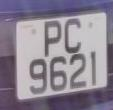1: (86, 48, 100, 92)
2: (68, 49, 89, 94)
6: (48, 54, 70, 97)
9: (26, 55, 51, 100)
C: (61, 15, 86, 57)
P: (41, 17, 64, 60)
